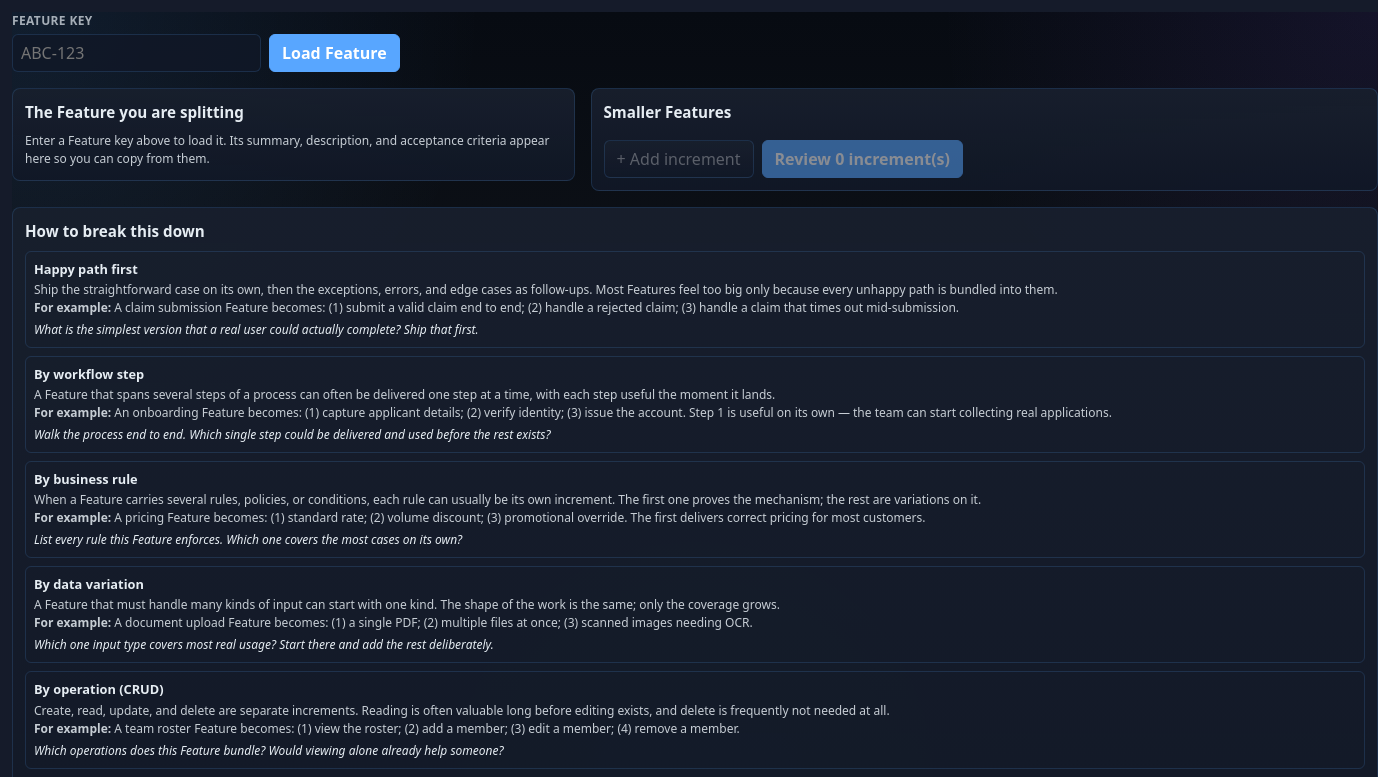
it: FeatureSplitterTab — the review step (FR-013) › itemises every create and every link before anything is written
Step 1. Type "ABC-1" into the field labelled "Feature key" → (136, 53), box [12,34,261,72]
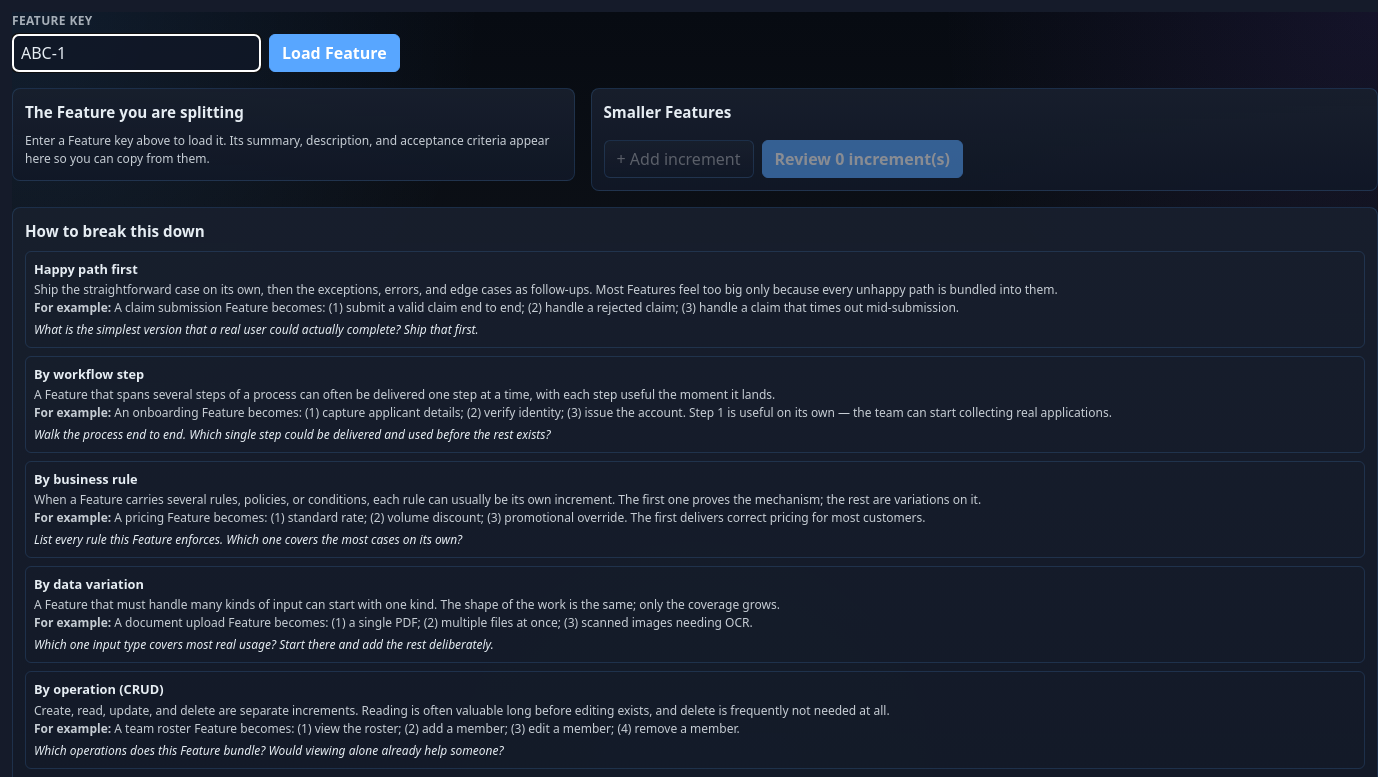
Step 2. Click the button "Load Feature" → (334, 53), box [269,34,400,72]
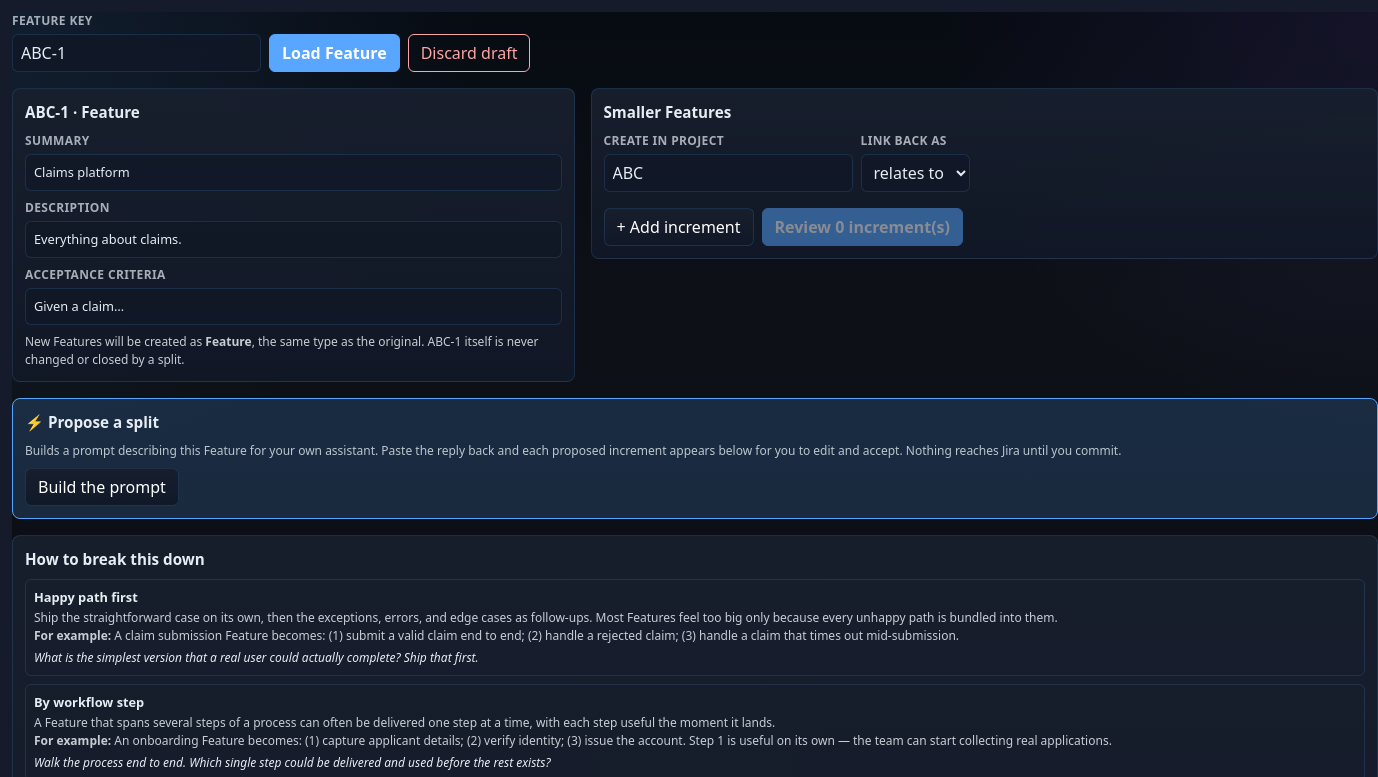
Result: the heading "ABC-1 · Feature" is shown at [25,102,140,122]
Step 3. Click the button "+ Add increment" → (678, 227), box [604,208,754,246]
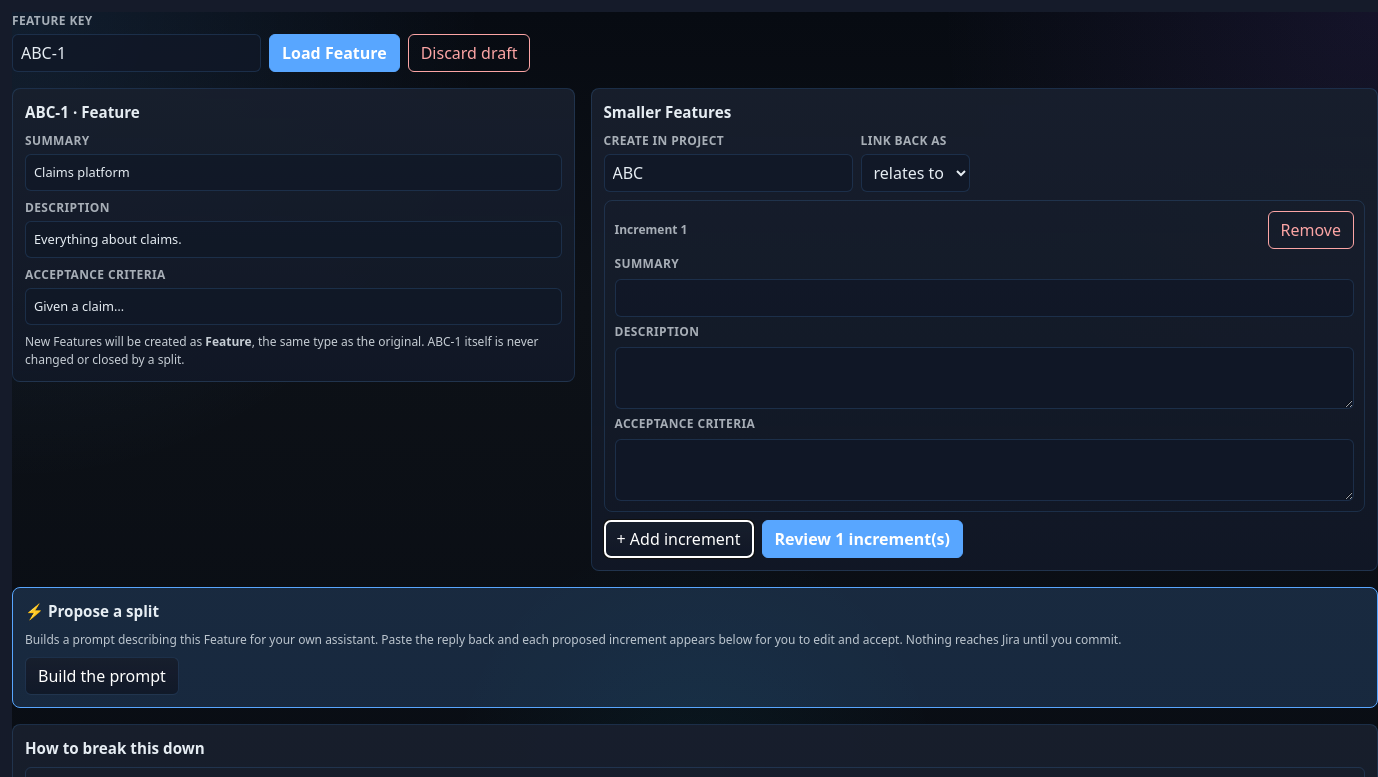
Step 4. Type "Submit a claim with one document" into the field labelled "Summary" → (984, 298), box [614,279,1354,317]
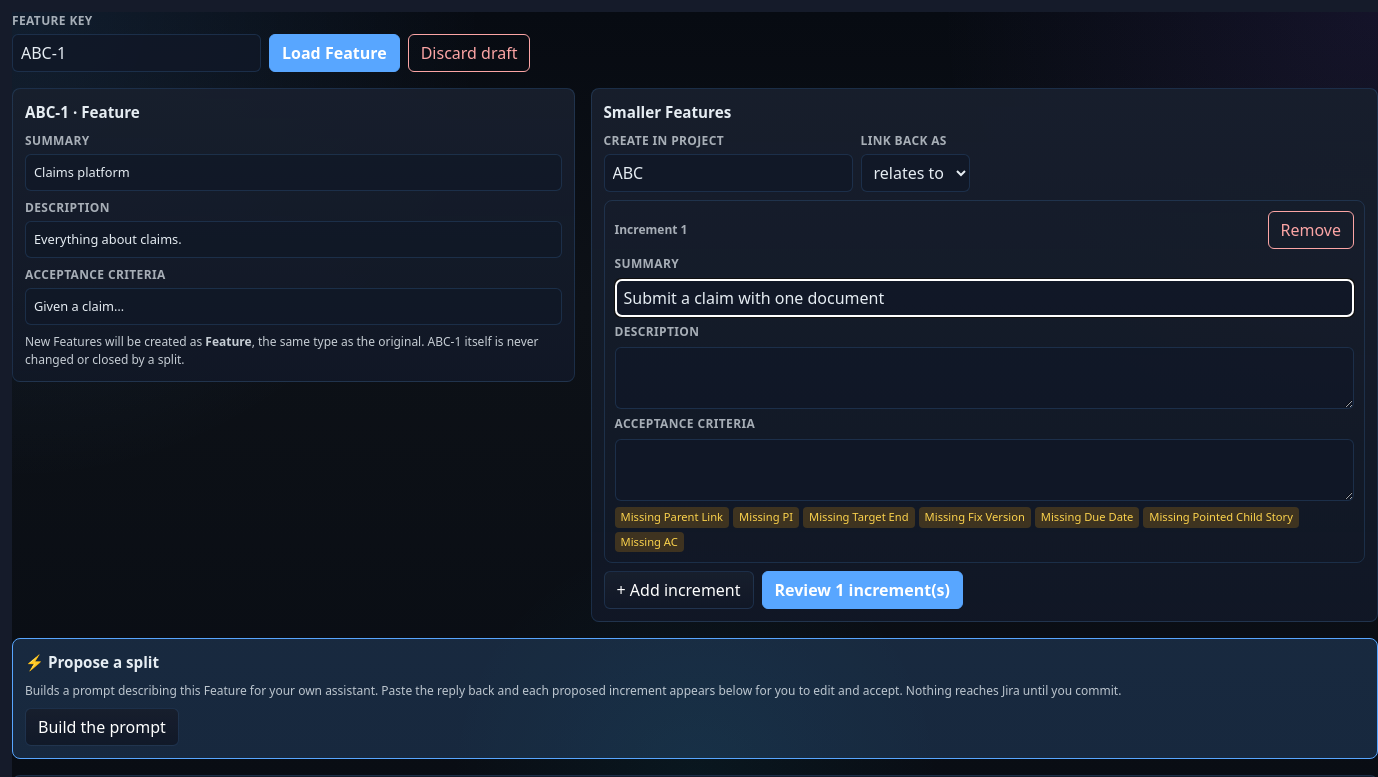
Step 5. Click the button "Review 1 increment(s)" → (862, 590), box [762,571,963,609]
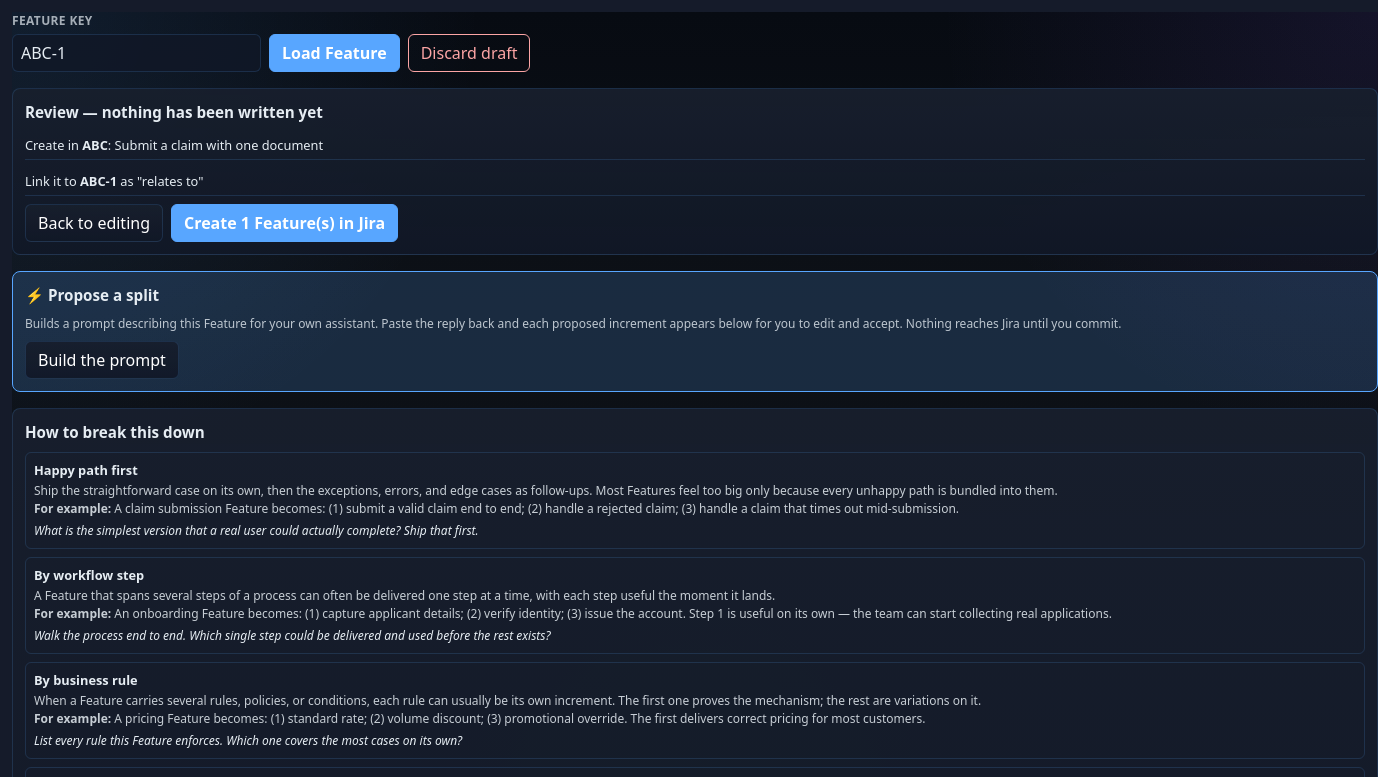
Result: the text "ABC-1" is shown at [80,172,117,190]
Result: the heading "Review — nothing has been written yet" is shown at [25,102,323,122]
Result: the list item "Create in ABC: Submit a claim with one document" is shown at [25,132,1365,160]
